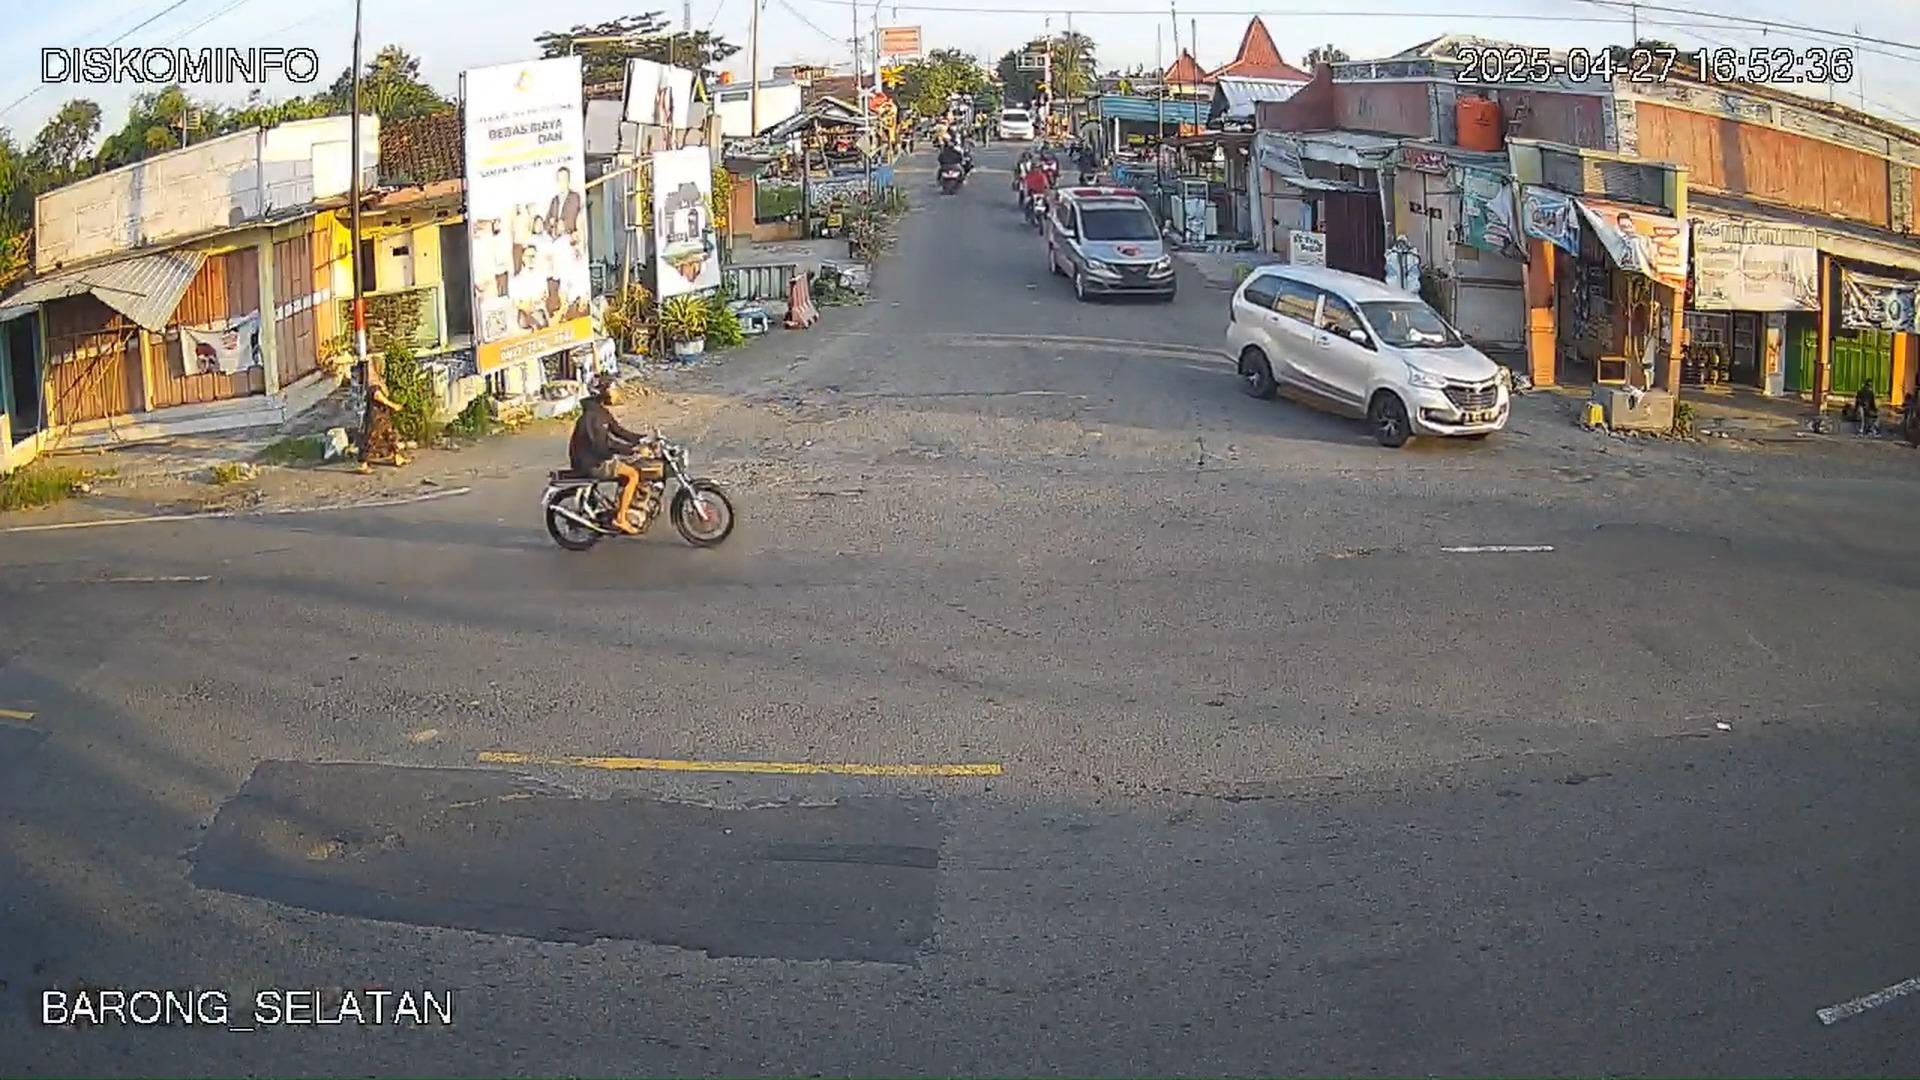Motor: (571, 373, 659, 537)
mobil: (1222, 258, 1501, 447)
